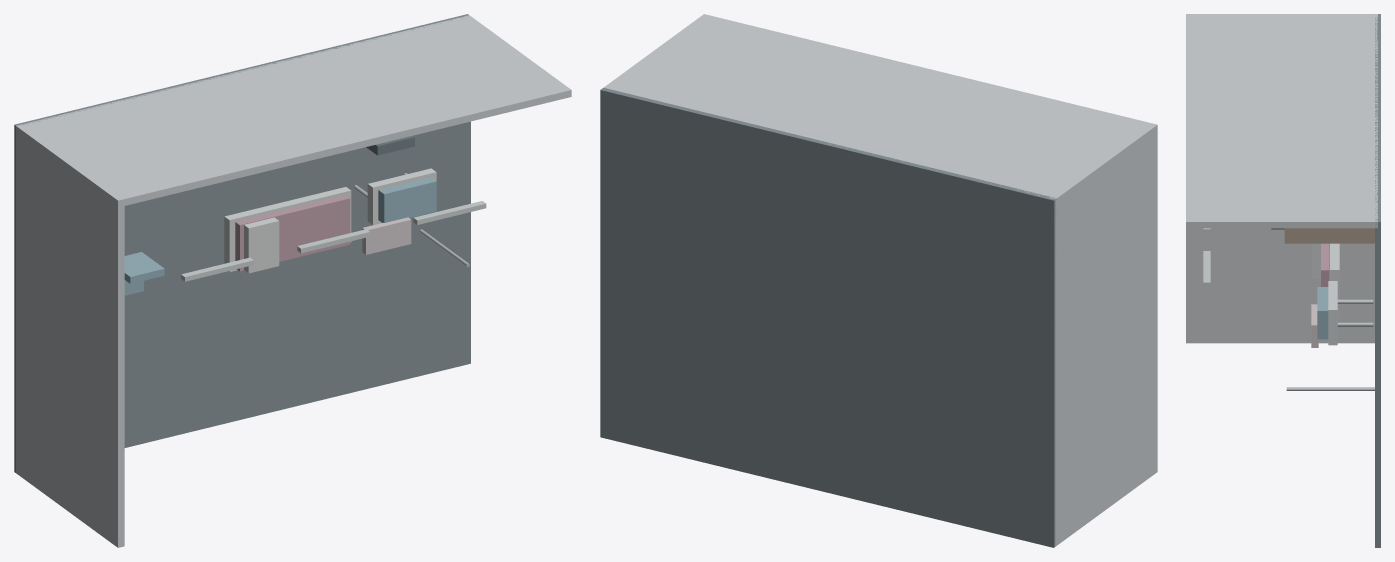
Rendered from maternity-room-high.glb.
3 renders of one model, left to right at view 1: azimuth 30°, elevation 25°; view 2: azimuth 150°, elevation 25°; view 3: azimuth 270°, elevation 25°, orthographic. The views are drawn at different scales.
Visible parts, largest first — view 1: floor, wall_back, wall_left, maternity_mattress, bassinet_pad, pillow, maternity_bed, newborn_support_surface, newborn_bassinet, chair_back; view 2: floor, wall_back, wall_left; view 3: wall_back, wall_left, floor, maternity_cabinet, newborn_bassinet, bassinet_pad, maternity_bed, maternity_mattress, iv_stand, pillow, newborn_support_surface, ceiling_panel_3.
Part boxes in pixels (x1,y1,x2,y2): floor: (14,14,470,472); wall_back: (22,15,571,207); wall_left: (16,124,124,547); maternity_mattress: (235,195,350,271); bassinet_pad: (378,177,436,222); pillow: (244,217,279,273); maternity_bed: (224,187,351,272); newborn_support_surface: (362,217,411,254); newborn_bassinet: (367,168,436,224); chair_back: (124,252,164,283); floor: (600,87,1056,547); wall_back: (604,14,1155,205); wall_left: (1049,123,1157,546); wall_back: (1186,14,1377,228); wall_left: (1186,14,1377,343); floor: (1375,14,1380,547); maternity_cabinet: (1284,228,1374,243); newborn_bassinet: (1328,281,1337,345); bassinet_pad: (1317,287,1328,339); maternity_bed: (1330,243,1339,318); maternity_mattress: (1321,243,1329,286); iv_stand: (1286,387,1374,390); pillow: (1312,243,1320,278); newborn_support_surface: (1311,304,1318,347); ceiling_panel_3: (1203,251,1210,286).
Bounding box in the file's own units: 8.2 × 6 × 3.25.
